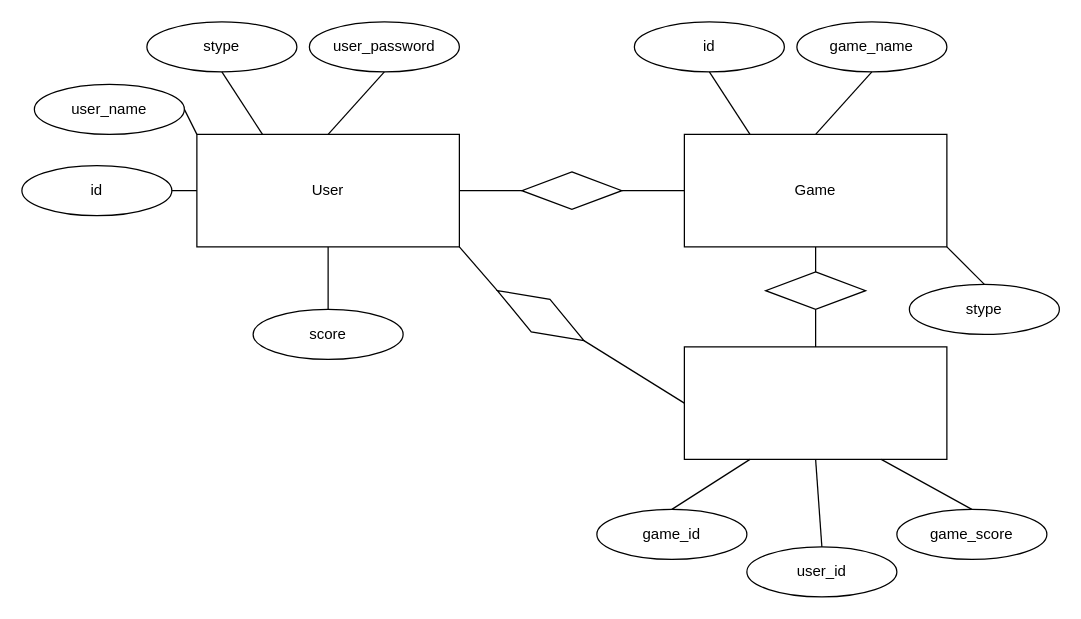
Image size: 1081x619. Some labels were removed from this diagram. Each missing label, with the centre of its shape:
can check: (540,315)
inputs: (815,290)
plays: (571,190)
Rating: (815,402)
